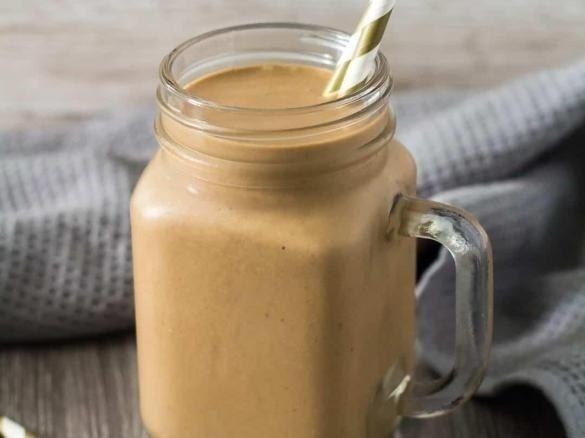glass-mug: (130, 13, 496, 434)
